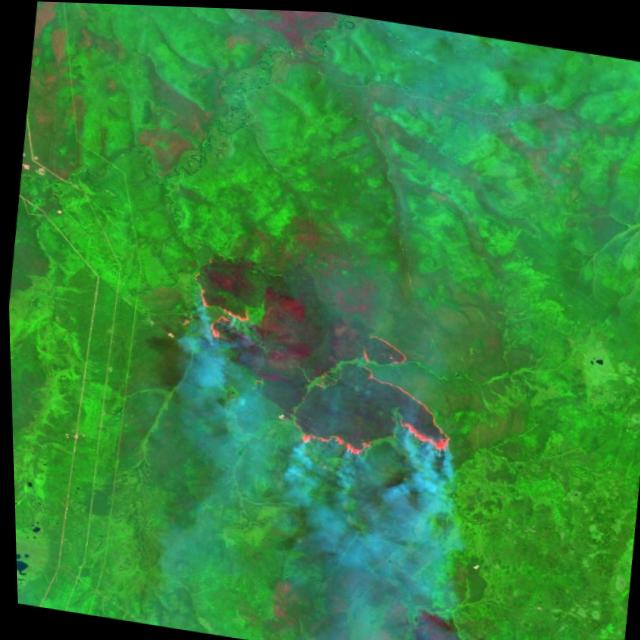fire: (284, 316, 466, 468), (180, 280, 258, 342)
